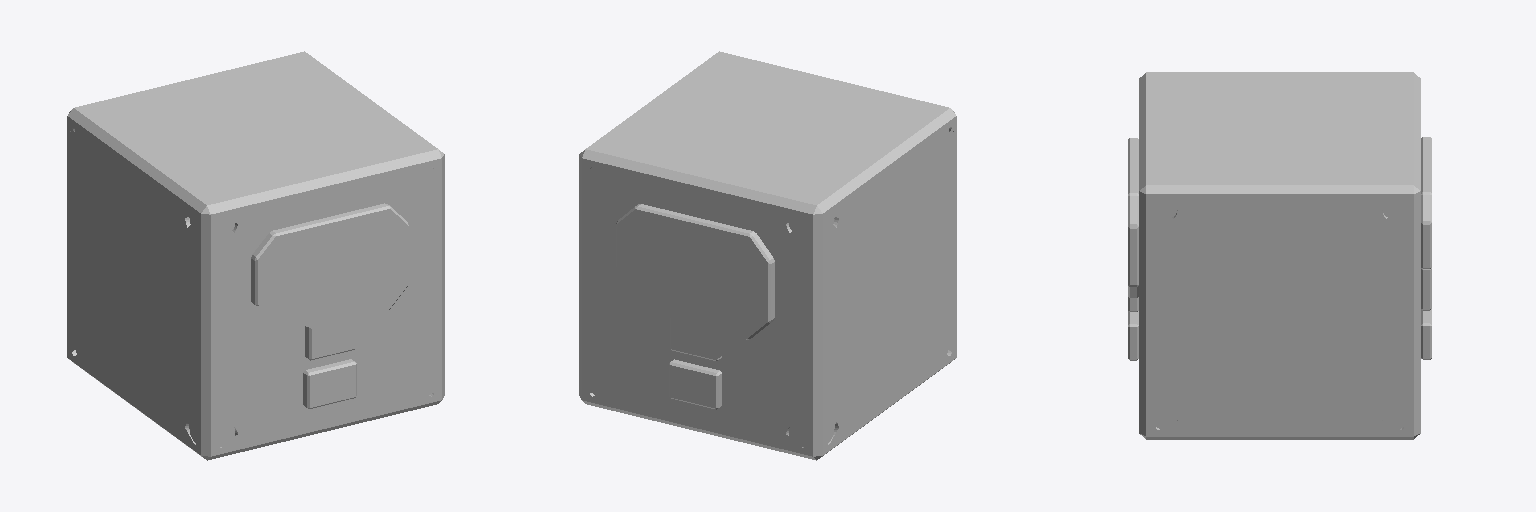
Rendered from Question_Block.obj.
The picture shows the model from 3 angles: view 1: azimuth 30°, elevation 25°; view 2: azimuth 150°, elevation 25°; view 3: azimuth 270°, elevation 25°; orthographic projection.
Visible parts, largest first — view 1: ?_Block_-_Block_Cube.002, ?_Block_-_Block_-_Question_Marks_Plane.001; view 2: ?_Block_-_Block_Cube.002, ?_Block_-_Block_-_Question_Marks_Plane.001; view 3: ?_Block_-_Block_Cube.002, ?_Block_-_Block_-_Question_Marks_Plane.001.
Part boxes in pixels (bbox=[...]): ?_Block_-_Block_Cube.002: bbox=[67, 51, 444, 460]; ?_Block_-_Block_-_Question_Marks_Plane.001: bbox=[251, 203, 408, 408]; ?_Block_-_Block_Cube.002: bbox=[579, 51, 956, 460]; ?_Block_-_Block_-_Question_Marks_Plane.001: bbox=[616, 204, 774, 409]; ?_Block_-_Block_Cube.002: bbox=[1139, 72, 1420, 439]; ?_Block_-_Block_-_Question_Marks_Plane.001: bbox=[1128, 137, 1431, 360].
Size of the model in its own units: 1.78 by 1.78 by 1.93.